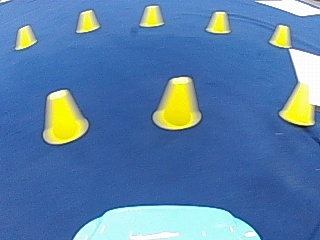cone: (153, 75, 200, 129), (42, 88, 87, 144), (278, 76, 314, 124), (75, 9, 99, 33), (139, 4, 164, 27), (14, 24, 37, 49), (205, 11, 230, 34), (268, 24, 291, 47)
